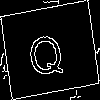Q: (24, 24, 66, 80)
